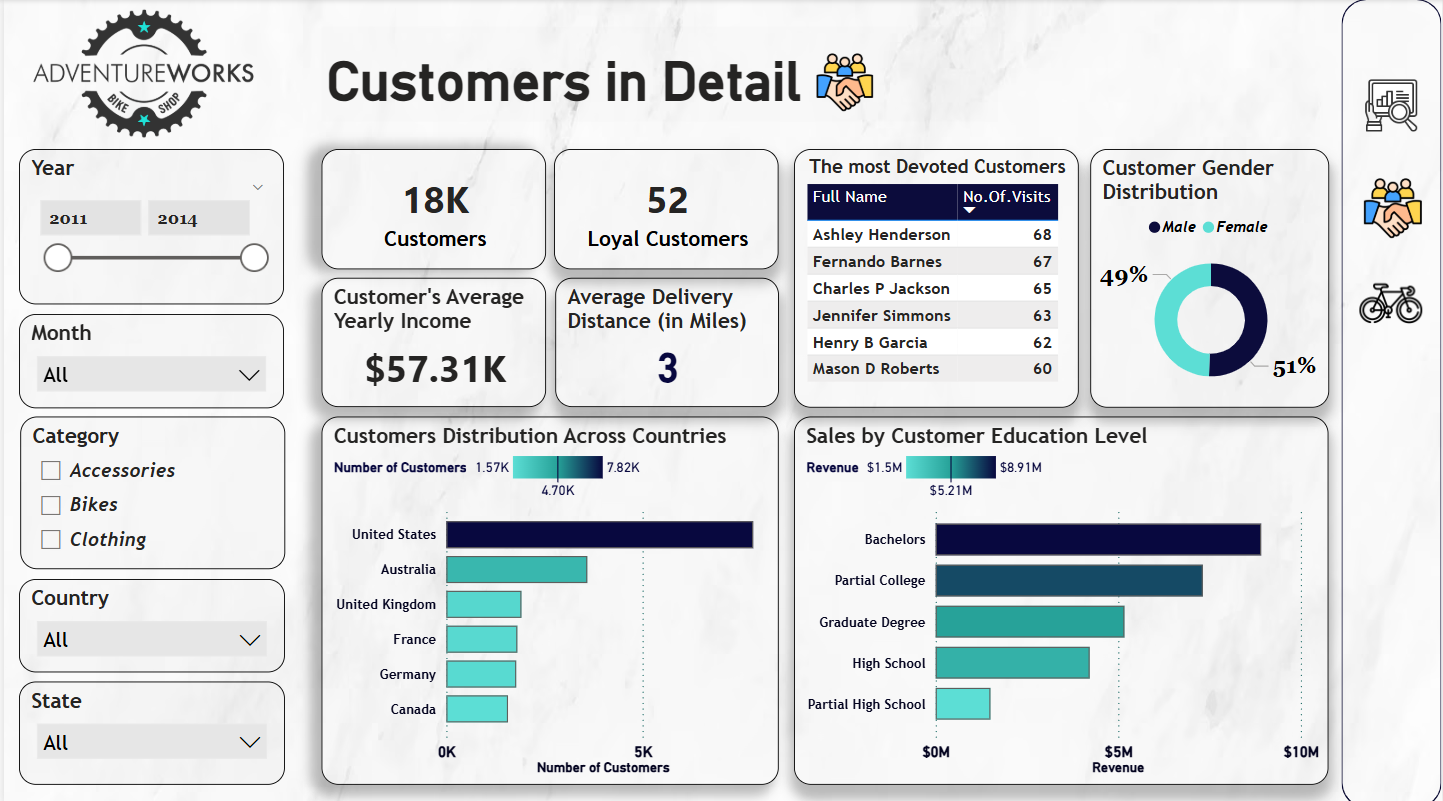

What the dashboard file says about the page in this screenshot:
{"tool":"powerbi","page":{"name":"Customers in Detail","canvas":[1280,720],"ordinal":1},"visuals":[{"type":"image","box":[0,0,249.5,133.3],"z":0,"group":"g1"},{"type":"donutChart","title":"Customer Gender Distribution","fields":{"Category":["DimCustomer.Gender"],"Y":["DimCustomer.CustomerKey"]},"box":[967.4,133.1,212.7,230.5],"z":0},{"type":"tableEx","title":"The most Devoted Customers","fields":{"Values":["DimCustomer.Full Name","Customers_Visits_Frequency.No.Of.Visits"]},"box":[703.9,133.1,253.9,230.5],"z":1000},{"type":"shape","box":[1190.8,0,89.2,720.4],"z":2000},{"type":"textbox","box":[282.7,24.7,602.4,85.1],"z":3000},{"type":"slicer","title":"Year","fields":{"Values":["DimDate.Date Hierarchy.Year"]},"box":[13.7,133.1,236,138.6],"z":3000,"group":"g1"},{"type":"group","id":"g1","title":"Group 2","box":[0,0,250.6,699.6],"z":4000},{"type":"slicer","title":"Category","fields":{"Values":["DimProductCategory.Category Name"]},"box":[14.9,372.2,235.7,135.8],"z":4000,"group":"g1"},{"type":"card","title":"To","fields":{"Values":["_Measures.No.Customer"]},"box":[282.7,133.1,200.3,107],"z":5000},{"type":"slicer","title":"Country","fields":{"Values":["DimSalesTerritory.SalesTerritoryCountry"]},"box":[12.9,516.3,236.6,83.2],"z":5000,"group":"g1"},{"type":"card","title":"Having","fields":{"Values":["_Measures.No.Loyal_Customers"]},"box":[489.9,133.1,200.3,107],"z":6000},{"type":"slicer","title":"Month","fields":{"Values":["DimDate.Date Hierarchy.MonthName"]},"box":[13.7,280.1,236,83.7],"z":6000,"group":"g1"},{"type":"advanceCardE03760C5AB684758B56AA29F9E6C257B","title":"Average Delivery Distance (in Miles)","fields":{"mainMeasure":["_Measures.Avg.Delivery_Distance"]},"box":[491.3,248.4,199,115.3],"z":7000},{"type":"slicer","title":"State","fields":{"Values":["DimGeography.StateProvinceName"]},"box":[12.9,607.9,236.6,91.8],"z":7000,"group":"g1"},{"type":"clusteredBarChart","title":"Customers Distribution Across Countries","fields":{"Category":["DimGeography.EnglishCountryRegionName"],"Y":["DimCustomer.CustomerKey"]},"box":[282.7,371.9,407.5,328],"z":8000},{"type":"card","title":"Customer''s Average Yearly Income","fields":{"Values":["_Measures.Avg. Customer YearlyIncome"]},"box":[282.7,248.4,200.3,115.3],"z":9000},{"type":"clusteredBarChart","title":"Sales by Customer Education Level","fields":{"Category":["DimCustomer.EnglishEducation"],"Y":["_Measures.Revenue"]},"box":[703.9,371.9,476.2,328],"z":10000},{"type":"image","box":[1202.1,238.8,65.9,65.9],"z":11000},{"type":"image","box":[1203.4,67.2,64.5,56],"z":12000},{"type":"image","box":[1204.8,155.1,64.5,63.1],"z":13000},{"type":"image","box":[717.7,43.9,61.7,61.7],"z":14000}]}

Visuals, with their boxes in screenshot pixels (x1, y1, x2, y2), scaled from the page's 1280x720 canvas onto the 1443x801 screenshot:
image: Rect(0, 0, 281, 148)
"Customer Gender Distribution" donutChart: Rect(1091, 148, 1330, 405)
"The most Devoted Customers" tableEx: Rect(794, 148, 1080, 405)
shape: Rect(1342, 0, 1442, 800)
textbox: Rect(319, 27, 998, 122)
"Year" slicer: Rect(15, 148, 281, 302)
"Group 2" group: Rect(0, 0, 283, 778)
"Category" slicer: Rect(17, 414, 283, 565)
"To" card: Rect(319, 148, 545, 267)
"Country" slicer: Rect(15, 574, 281, 667)
"Having" card: Rect(552, 148, 778, 267)
"Month" slicer: Rect(15, 312, 281, 405)
"Average Delivery Distance (in Miles)" advanceCardE03760C5AB684758B56AA29F9E6C257B: Rect(554, 276, 778, 405)
"State" slicer: Rect(15, 676, 281, 778)
"Customers Distribution Across Countries" clusteredBarChart: Rect(319, 414, 778, 779)
"Customer''s Average Yearly Income" card: Rect(319, 276, 545, 405)
"Sales by Customer Education Level" clusteredBarChart: Rect(794, 414, 1330, 779)
image: Rect(1355, 266, 1429, 339)
image: Rect(1357, 75, 1429, 137)
image: Rect(1358, 173, 1431, 243)
image: Rect(809, 49, 879, 117)
